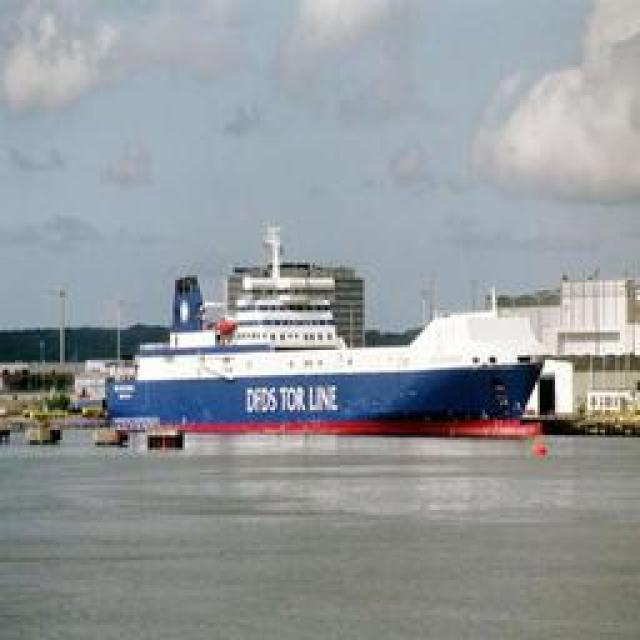CIV_Ship: (101, 241, 561, 441)
